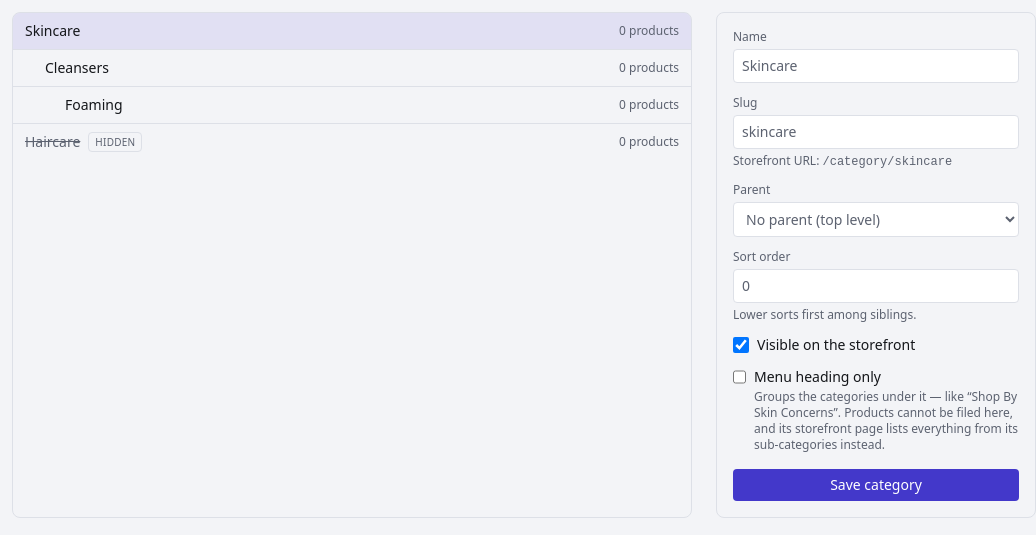
it: CategoryManager › loads the clicked category into the form
Click the button "Cleansers 0 products": click(77, 68) [13,50,691,86]
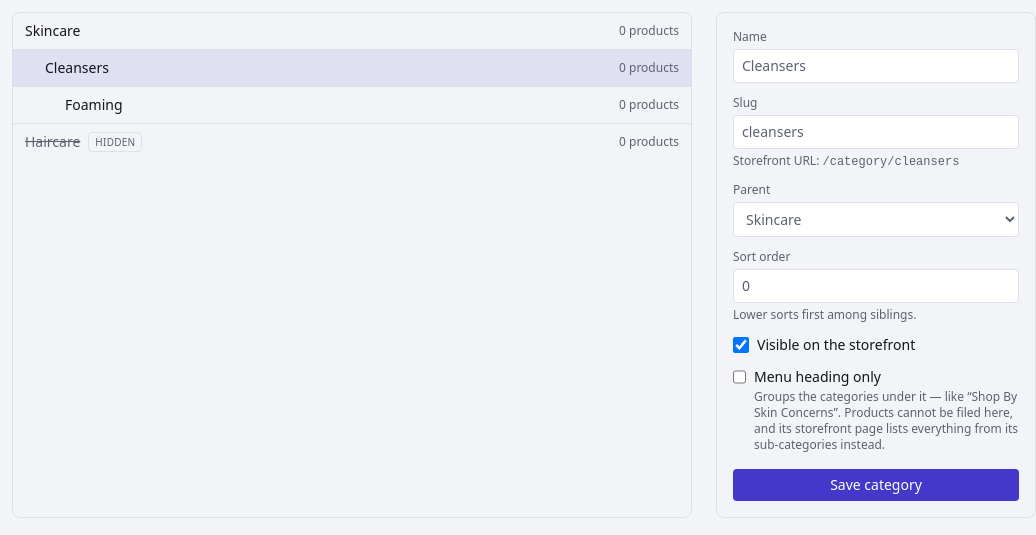
Result: the field labelled "Name" holds "Cleansers" at [733,49,1019,83]
